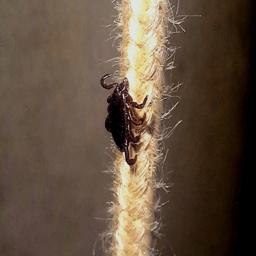Rhipicephalus sanguineus: (100, 72, 148, 167)
